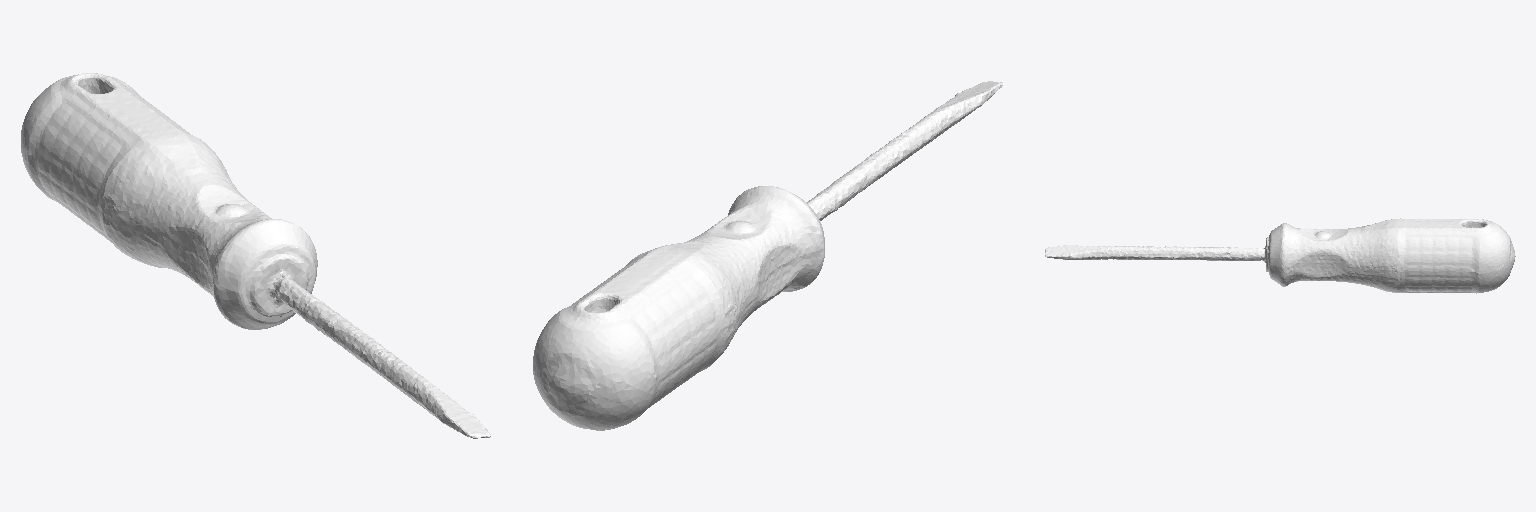
robot.urdf — flat_screwdriver:
<robot name="flat_screwdriver">
    <link name="base_link">
        <visual>
            <origin xyz="0.0 0.0 0.0" rpy="0.0 0.0 0.0" />
            <geometry>
                <mesh filename="flat_screwdriver/textured.obj" scale="1 1 1" />
            </geometry>
            <material name="texture">
                <color rgba="1.0 1.0 1.0 1.0" />
            </material>
        </visual>
        <collision>
            <origin xyz="0.0 0.0 0.0" rpy="0.0 0.0 0.0" />
            <geometry>
                <mesh filename="flat_screwdriver/textured_coacd_0.stl" scale="1 1 1" />
            </geometry>
        </collision>
        <collision>
            <origin xyz="0.0 0.0 0.0" rpy="0.0 0.0 0.0" />
            <geometry>
                <mesh filename="flat_screwdriver/textured_coacd_1.stl" scale="1 1 1" />
            </geometry>
        </collision>
        <inertial>
            <mass value="0.0984" />
            <inertia ixx="1e-3" ixy="0.0" ixz="0.0" iyy="1e-3" iyz="0.0" izz="1e-3" />
        </inertial>
    </link>
</robot>

--- Facts derived from the render (not from the file) ---
3 views of the same robot in one strip: view 1: azimuth 30°, elevation 25°; view 2: azimuth 150°, elevation 25°; view 3: azimuth 270°, elevation 25° (orthographic).
Model flat_screwdriver with 1 links and 0 joints (none), rooted at base_link, posed every joint at zero.
Links seen in each view (by area): view 1: base_link; view 2: base_link; view 3: base_link.
Link boxes in pixels (x1=…): base_link: x1=21, y1=73, x2=490, y2=438; base_link: x1=533, y1=81, x2=1002, y2=430; base_link: x1=1045, y1=218, x2=1515, y2=293.
Bounding box of the posed robot: 0.0345 × 0.2162 × 0.0336 m (x, y, z).
1 mesh visuals loaded from 1 distinct referenced files (1 OBJ).